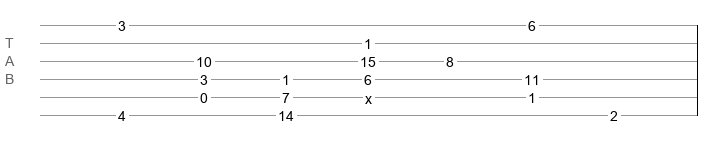0: (200, 90, 208, 100)
1: (282, 72, 290, 82), (364, 36, 372, 46), (528, 90, 536, 100)
10: (196, 54, 212, 64)
11: (524, 72, 540, 82)
14: (278, 108, 294, 118)
15: (360, 54, 376, 64)
2: (610, 108, 618, 118)
3: (118, 18, 126, 28), (200, 72, 208, 82)
4: (118, 108, 126, 118)
6: (364, 72, 372, 82), (528, 18, 536, 28)
7: (282, 90, 290, 100)
8: (446, 54, 454, 64)
x: (365, 91, 372, 99)
